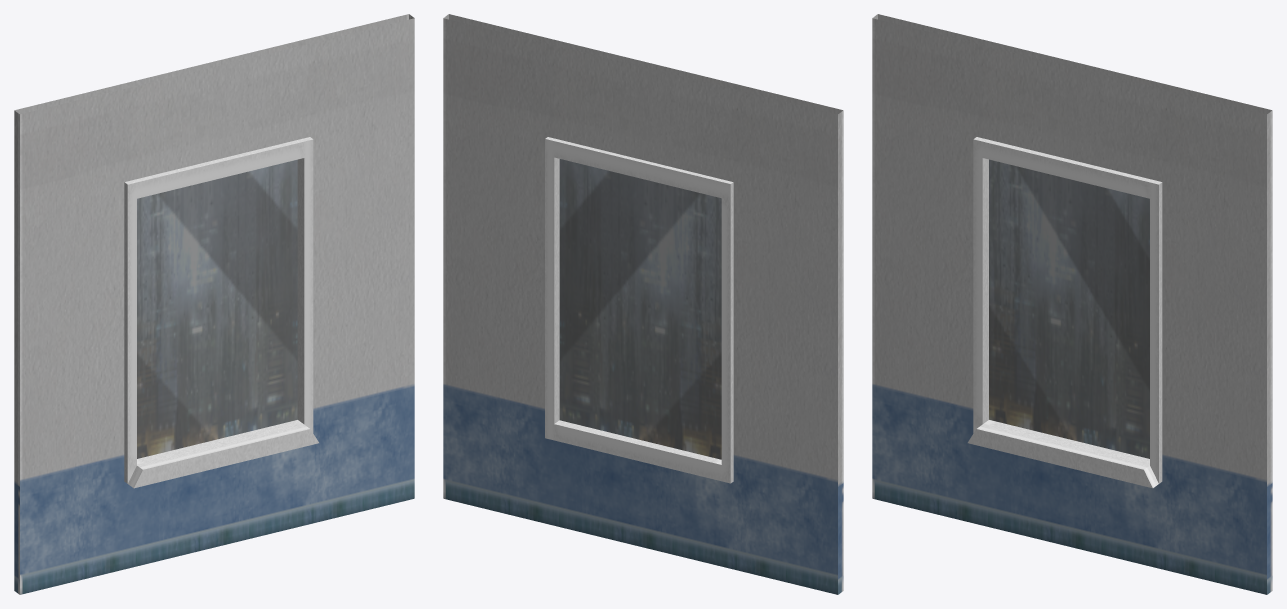
File: Wall_Tall_fenetreA.FBX
3 renders of one model, left to right at view 1: azimuth 30°, elevation 25°; view 2: azimuth 150°, elevation 25°; view 3: azimuth 330°, elevation 25°, orthographic.
Visible parts, largest first — view 1: Wall_tall_fenetreA_4m; view 2: Wall_tall_fenetreA_4m; view 3: Wall_tall_fenetreA_4m.
Boxes of the visible parts, left/top/right/bottom form: Wall_tall_fenetreA_4m: left=14, top=14, right=414, bottom=594; Wall_tall_fenetreA_4m: left=443, top=14, right=843, bottom=594; Wall_tall_fenetreA_4m: left=872, top=14, right=1272, bottom=594.
Bounding box in the file's own units: 262 × 305 × 20.55.
